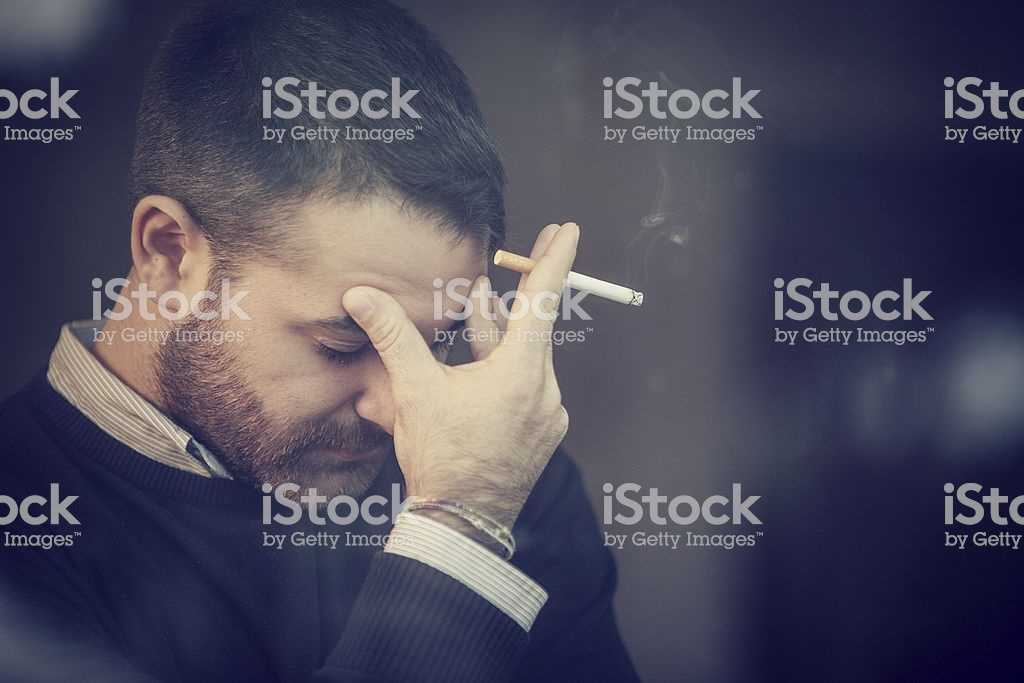sigaretta: (490, 249, 647, 308)
